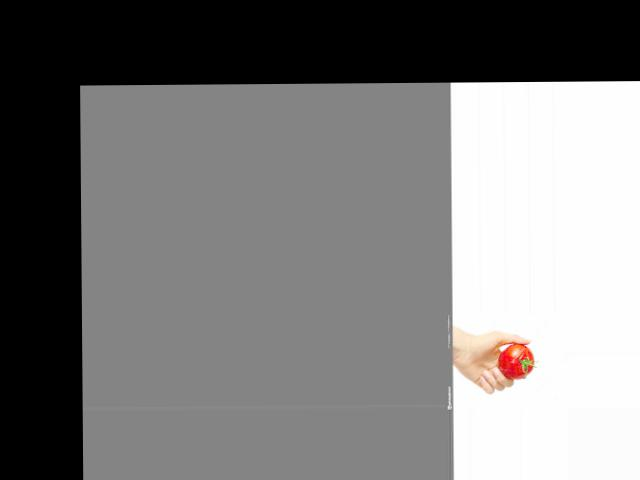tomato: (498, 343, 535, 378)
